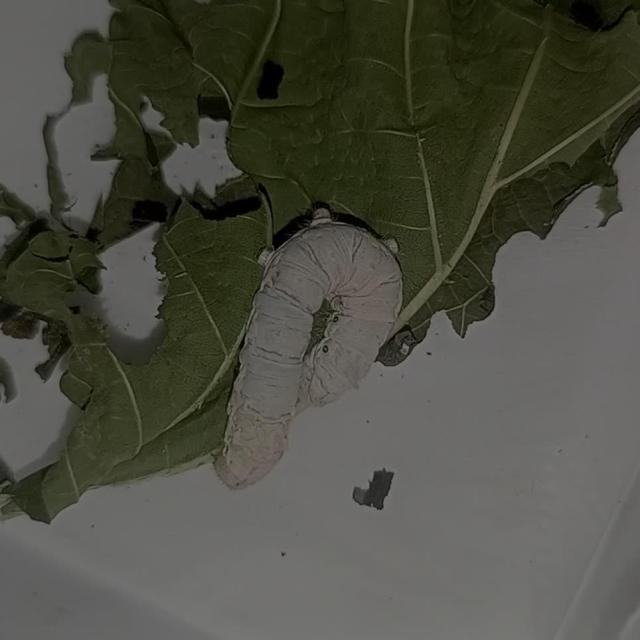Healthy: (195, 192, 424, 526)
